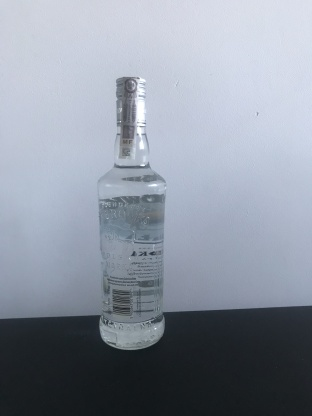nakretka: (113, 72, 148, 129)
